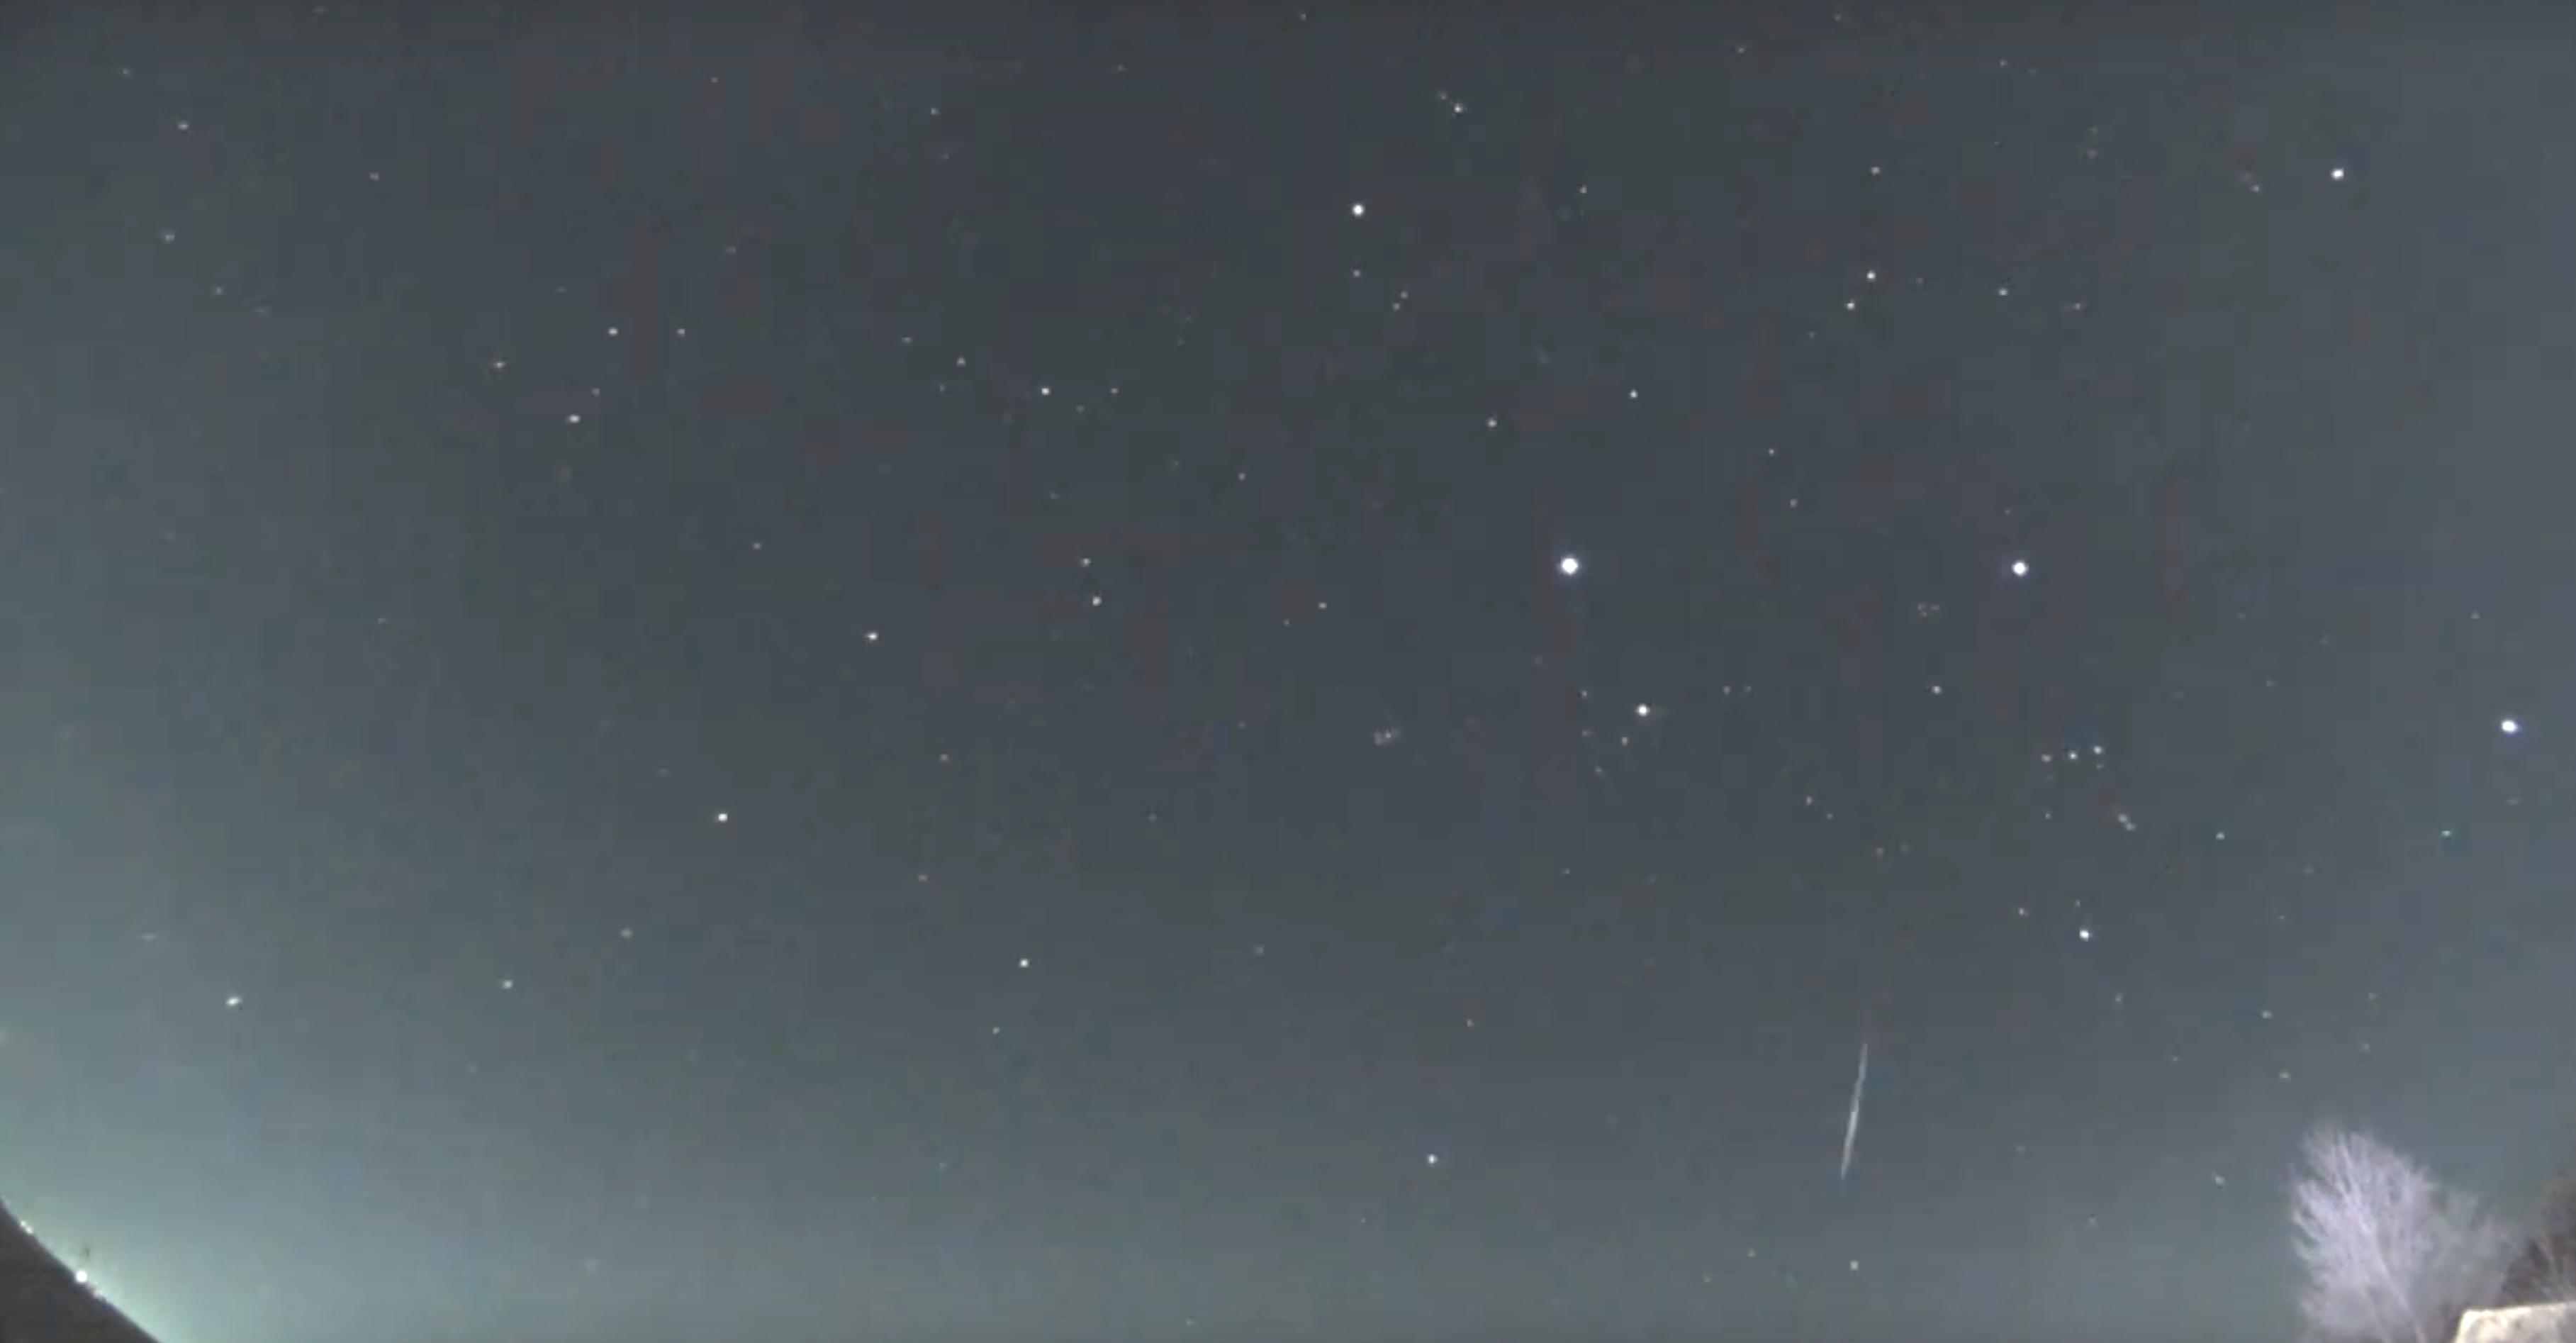meteorite: (1808, 1023, 1901, 1181)
